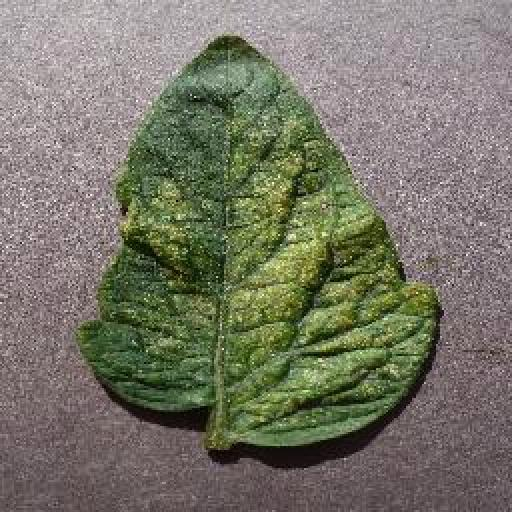disease_tomato: (78, 34, 436, 450)
